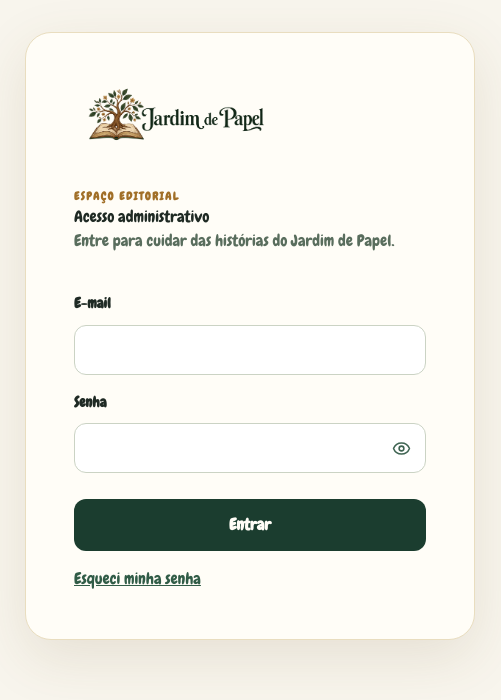
Scenario: acesso administrativo › envia credenciais e mostra falha sem revelar detalhes
The image size is (501, 700).
In the field labelled "E-mail": (250, 350) [74,324,426,374], type "test@example.invalid"
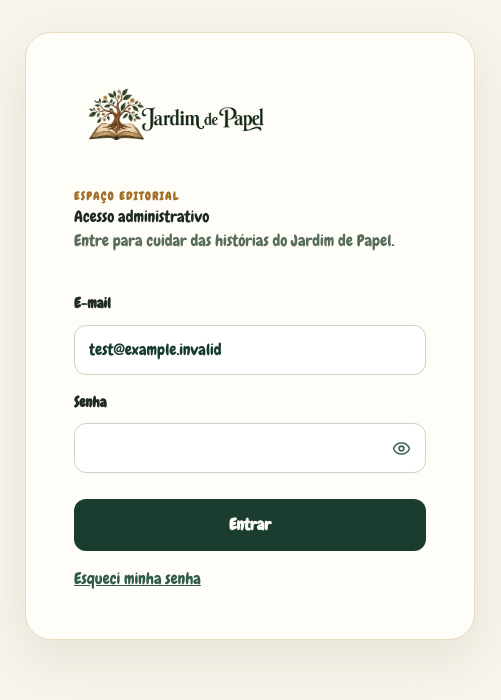
In the password field labelled "Senha": (250, 448) [74,423,426,473], type "wrong"
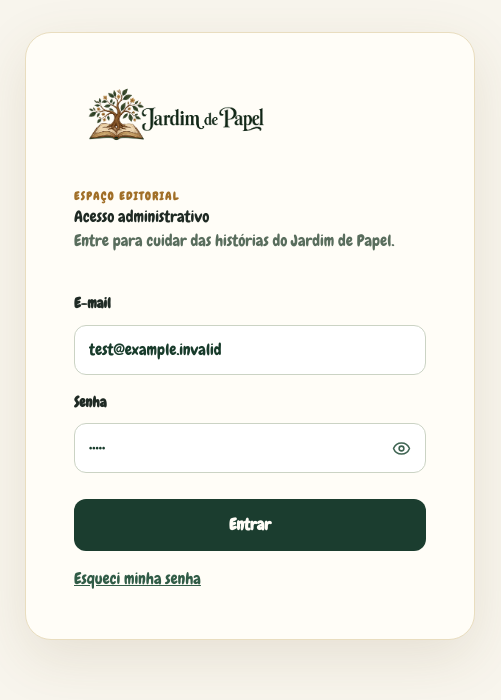
Click the button "Entrar": (250, 525) [74,499,426,551]
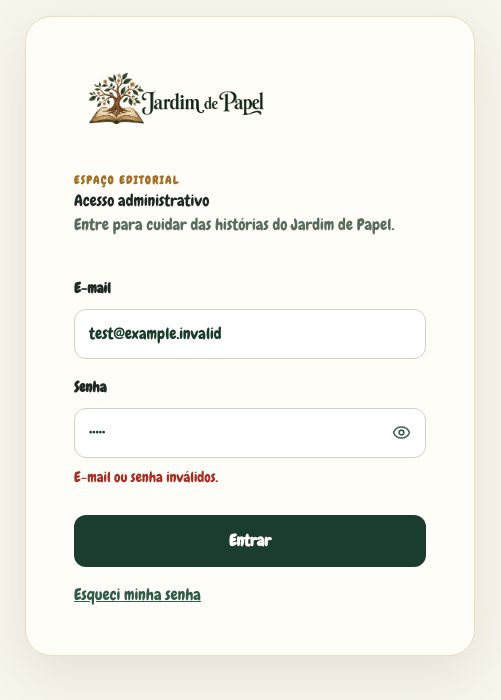
Expected: the message reads "E-mail ou senha inválidos.", [74,468,218,486]
